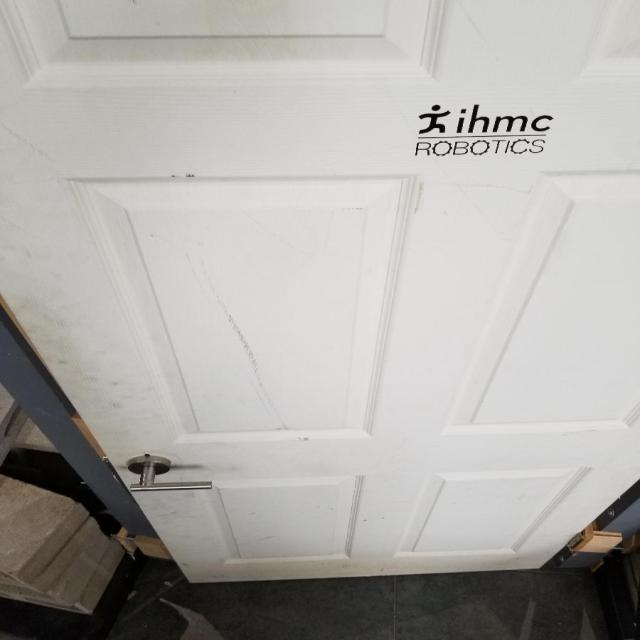door: (122, 453, 215, 496)
